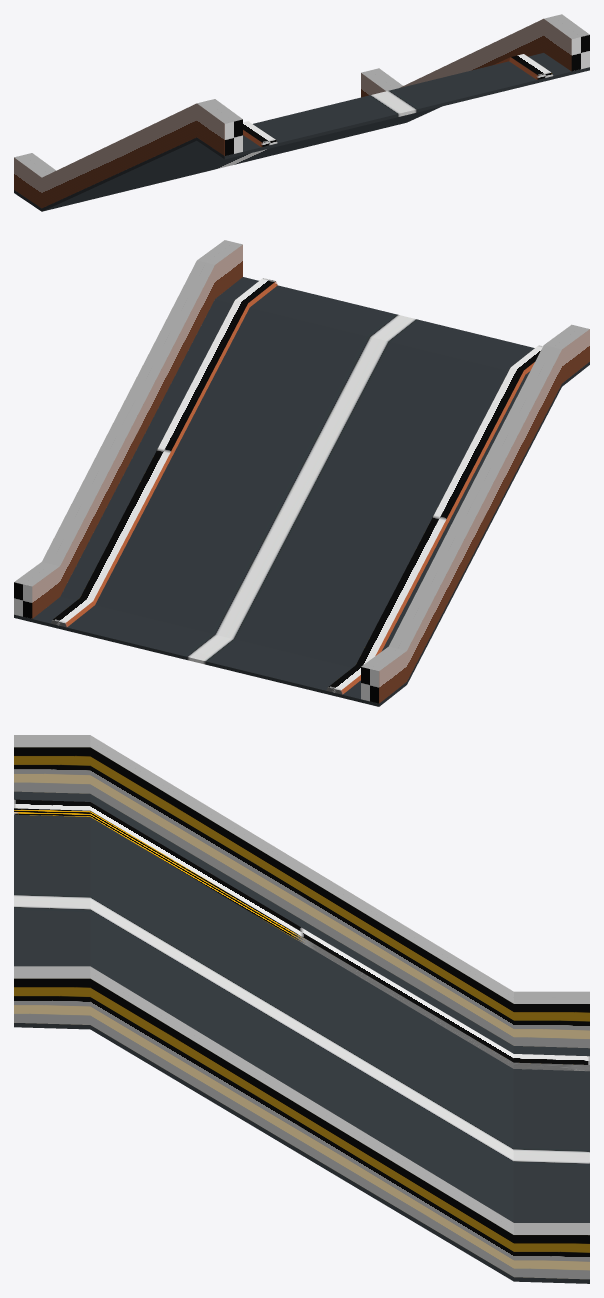
File: kartkids_base_trk_270_rmp_transition_flat_to_up_1x1_z5.gltf
3 renders of one model, top to bottom at view 1: azimuth 30°, elevation 25°; view 2: azimuth 150°, elevation 25°; view 3: azimuth 270°, elevation 25°, orthographic. The views are drawn at different scales.
Parts seen in each view (by area): view 1: kartkids_base_trk_270_rmp_transition_flat_to_up_1x1_z5, kartkids_base_trk_270_rmp_transition_flat_to_up_1x1_z5.001; view 2: kartkids_base_trk_270_rmp_transition_flat_to_up_1x1_z5, kartkids_base_trk_270_rmp_transition_flat_to_up_1x1_z5.001; view 3: kartkids_base_trk_270_rmp_transition_flat_to_up_1x1_z5, kartkids_base_trk_270_rmp_transition_flat_to_up_1x1_z5.001.
Boxes of the visible parts, <box> form: kartkids_base_trk_270_rmp_transition_flat_to_up_1x1_z5: <box>14,53,589,211</box>; kartkids_base_trk_270_rmp_transition_flat_to_up_1x1_z5.001: <box>14,14,589,208</box>; kartkids_base_trk_270_rmp_transition_flat_to_up_1x1_z5: <box>14,277,589,706</box>; kartkids_base_trk_270_rmp_transition_flat_to_up_1x1_z5.001: <box>14,240,589,703</box>; kartkids_base_trk_270_rmp_transition_flat_to_up_1x1_z5: <box>14,791,589,1283</box>; kartkids_base_trk_270_rmp_transition_flat_to_up_1x1_z5.001: <box>14,735,589,1279</box>.
Size of the model in its own units: 10 by 5.85 by 10.
Materials: 2 (2 with a texture image).
